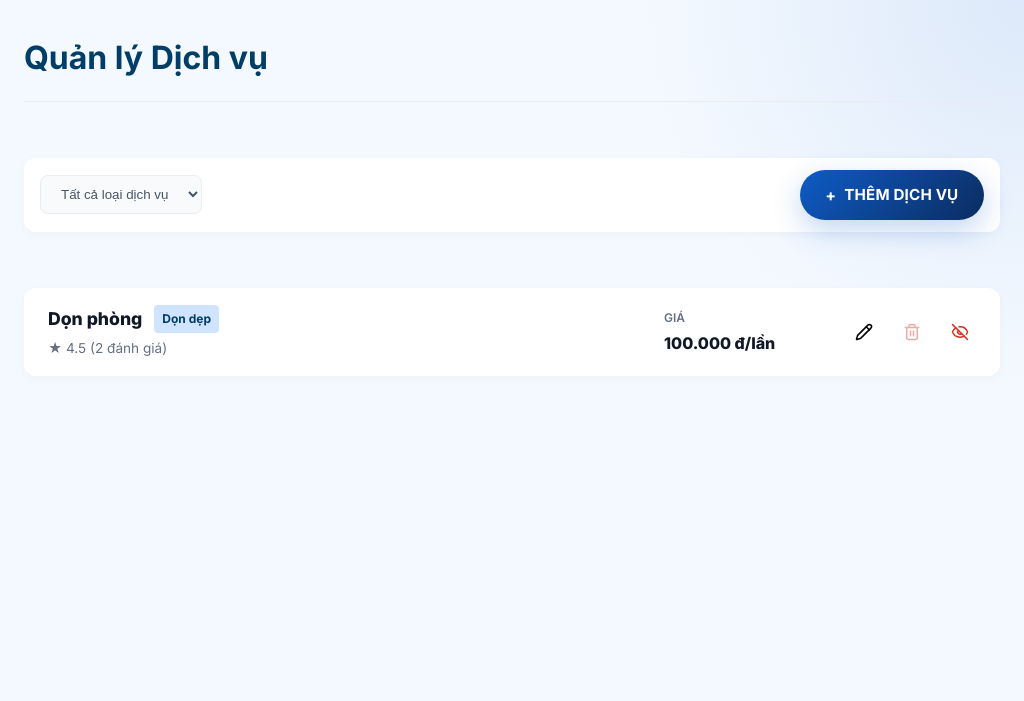
Test: ServiceManagement › sửa dịch vụ có sẵn khung giờ → hiện đúng giá trị trong ô input
Expected: the text "Dọn phòng" is shown, left=48, top=304, right=142, bottom=333
Click the button titled "Sửa": (864, 332) left=848, top=316, right=880, bottom=348
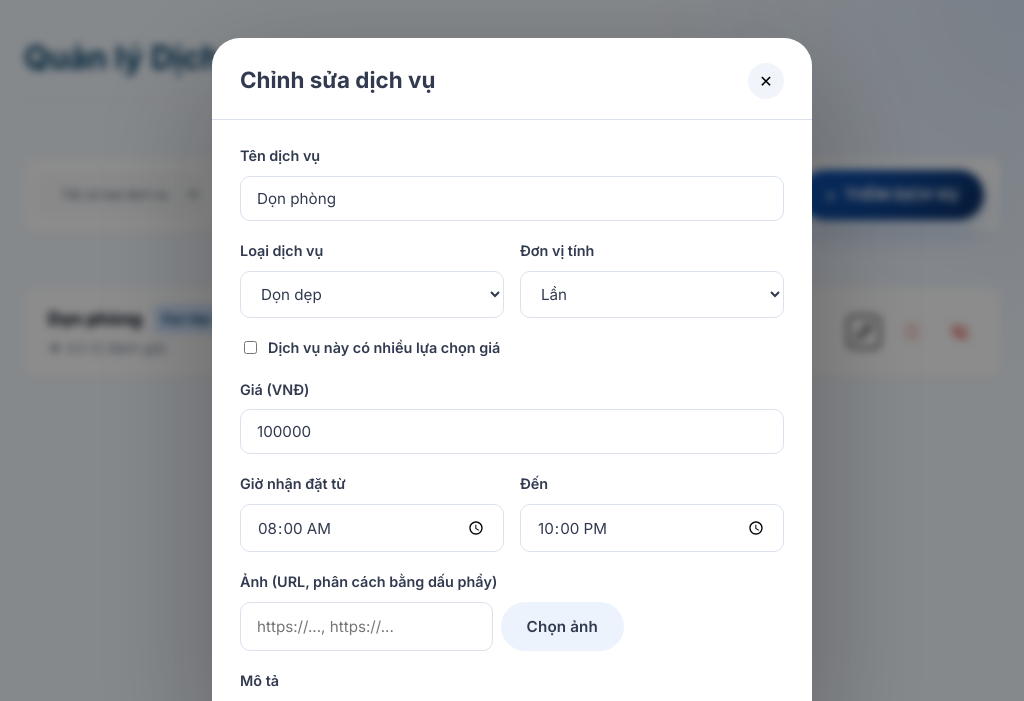
Expected: the time field labelled "Giờ nhận đặt từ" holds "08:00", left=240, top=504, right=504, bottom=552
Expected: the time field labelled "Đến" holds "22:00", left=520, top=504, right=784, bottom=552
